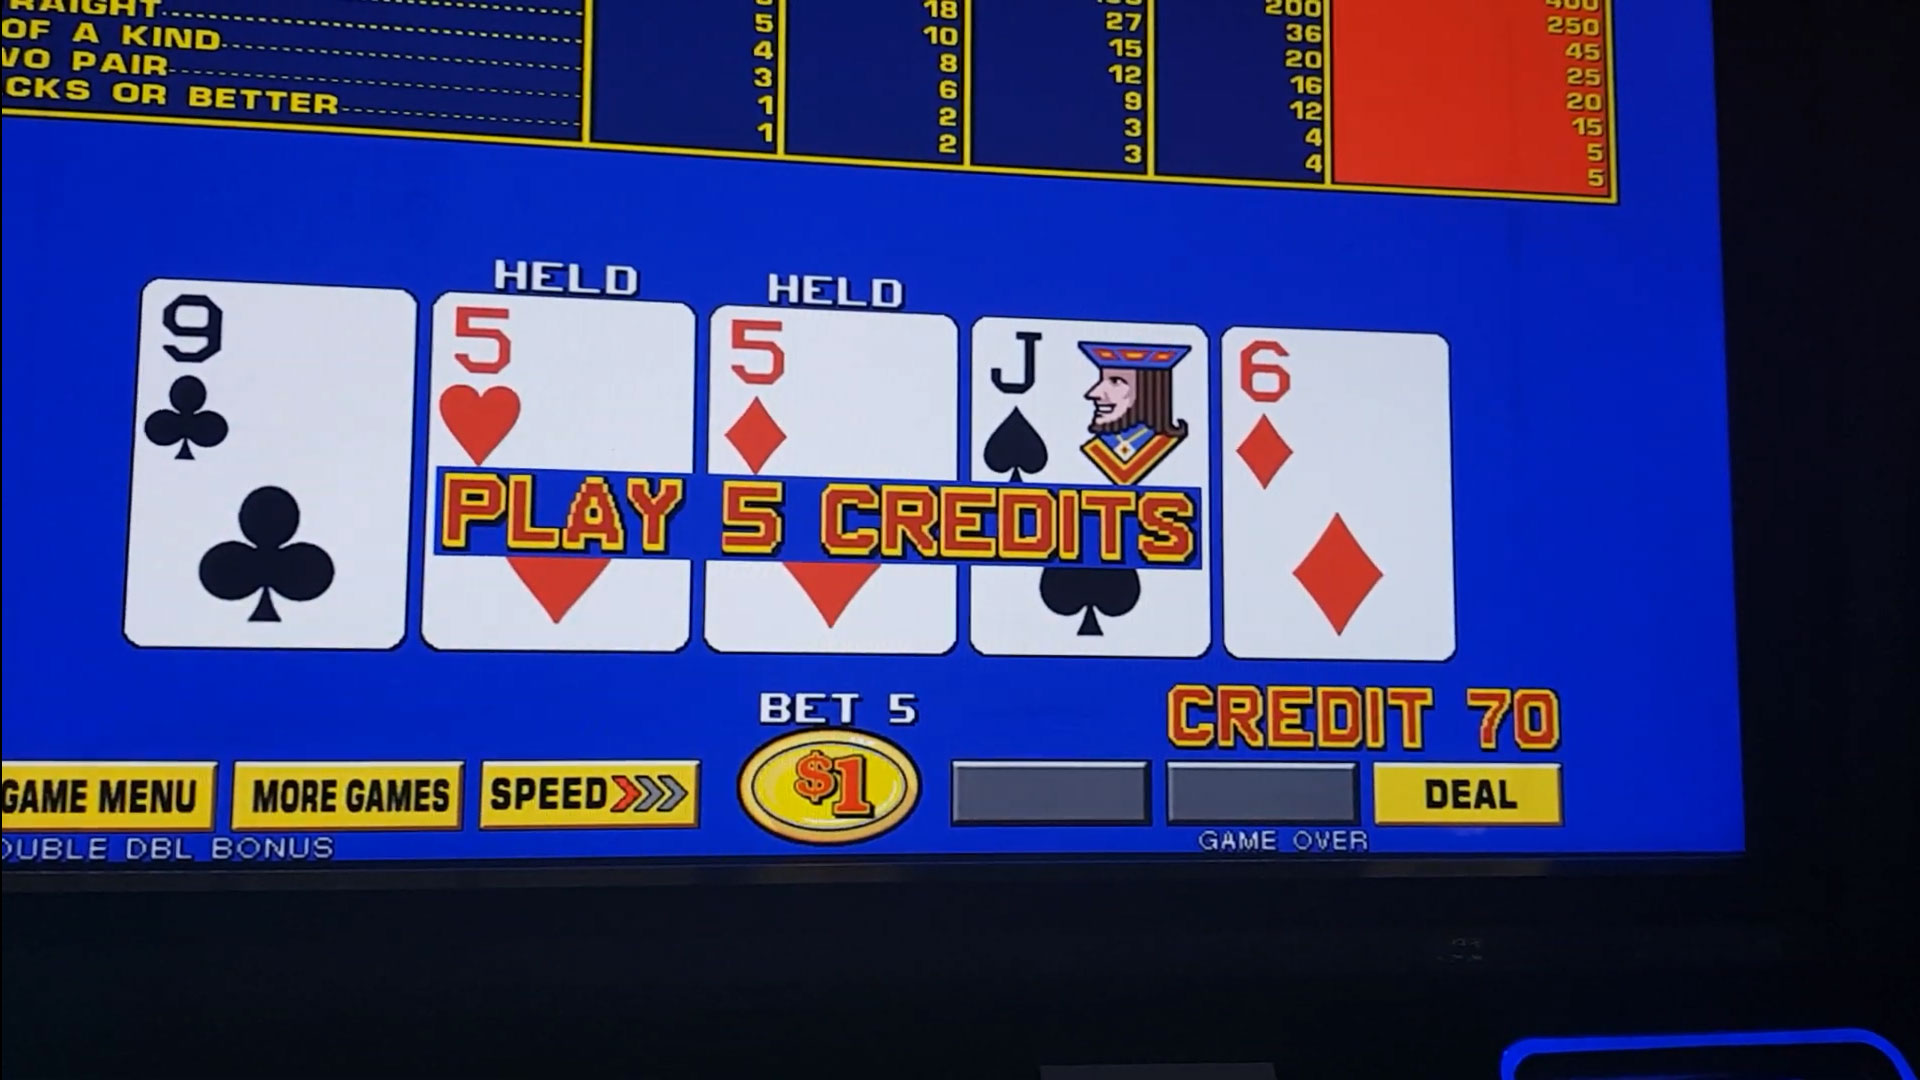C9: (142, 299, 407, 463)
D5: (713, 319, 952, 468)
D6: (1226, 338, 1445, 495)
H5: (439, 310, 687, 454)
SJ: (977, 326, 1203, 479)
